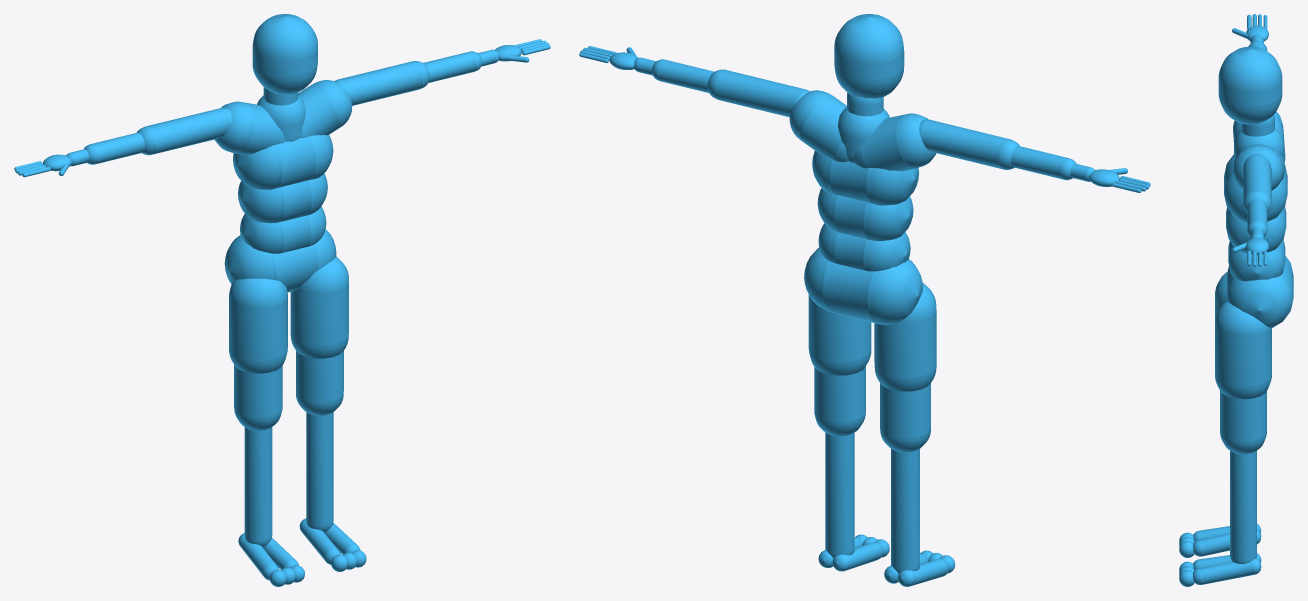
Rendered from RagdollHumanoid.fbx.
The picture shows the model from 3 angles, left to right: view 1: azimuth 30°, elevation 25°; view 2: azimuth 150°, elevation 25°; view 3: azimuth 270°, elevation 25°; orthographic projection. The views are drawn at different scales.
Parts seen in each view (by area): view 1: rfemur_upper, lfemur_upper, head, thorax, root_geom, rtibia, ltibia, upperback, rfemur, lfemur, rhumerus, lowerback (+8 smaller); view 2: root_geom, head, rfemur_upper, lfemur_upper, ltibia, thorax, rtibia, upperback, rclavicle, lfemur, rfemur, rhumerus (+8 smaller); view 3: lfemur_upper, head, ltibia, root_geom, lfemur, thorax, lowerback, lhumerus, upperback, lclavicle, lfoot_ch, lowerneck (+11 smaller).
Boxes of the visible parts, left/top/right/bottom form: rfemur_upper: left=229, top=278, right=287, bottom=373; lfemur_upper: left=290, top=256, right=348, bottom=358; head: left=252, top=14, right=317, bottom=94; thorax: left=233, top=135, right=333, bottom=189; root_geom: left=224, top=229, right=336, bottom=292; rtibia: left=244, top=427, right=272, bottom=547; ltibia: left=306, top=412, right=333, bottom=532; upperback: left=238, top=173, right=327, bottom=223; rfemur: left=234, top=364, right=282, bottom=430; lfemur: left=296, top=351, right=343, bottom=415; rhumerus: left=136, top=107, right=232, bottom=155; lowerback: left=240, top=206, right=326, bottom=253; root_geom: left=804, top=247, right=922, bottom=324; head: left=834, top=14, right=904, bottom=98; rfemur_upper: left=874, top=283, right=936, bottom=391; lfemur_upper: left=808, top=294, right=871, bottom=375; ltibia: left=825, top=432, right=854, bottom=557; thorax: left=812, top=151, right=919, bottom=205; rtibia: left=891, top=449, right=919, bottom=573; upperback: left=817, top=188, right=913, bottom=241; rclavicle: left=853, top=113, right=936, bottom=171; lfemur: left=814, top=366, right=865, bottom=436; rfemur: left=880, top=383, right=930, bottom=452; rhumerus: left=919, top=119, right=1019, bottom=169; lfemur_upper: left=1215, top=301, right=1271, bottom=399; head: left=1218, top=46, right=1282, bottom=124; ltibia: left=1230, top=450, right=1256, bottom=564; root_geom: left=1226, top=256, right=1293, bottom=328; lfemur: left=1220, top=390, right=1266, bottom=454; thorax: left=1224, top=154, right=1287, bottom=222; lowerback: left=1228, top=239, right=1285, bottom=281; lhumerus: left=1243, top=154, right=1271, bottom=212; upperback: left=1226, top=207, right=1286, bottom=252; lclavicle: left=1233, top=144, right=1285, bottom=190; lfoot_ch: left=1193, top=558, right=1261, bottom=584; lowerneck: left=1234, top=127, right=1284, bottom=162.
Size of what is drawn, in the model's own units: 176 by 170 by 34.08.
